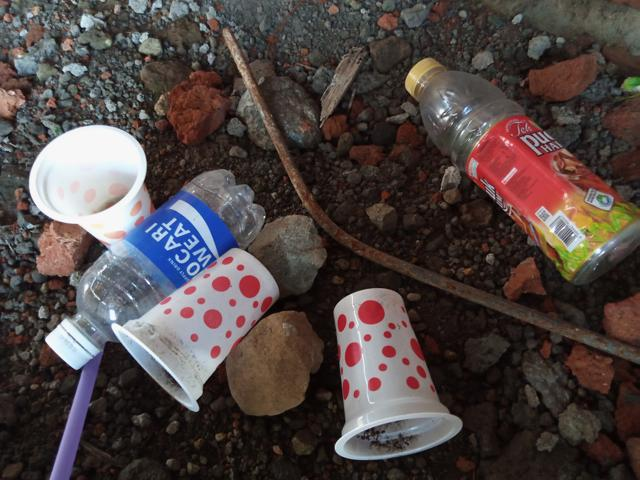botol_kaca: (38, 162, 269, 378)
